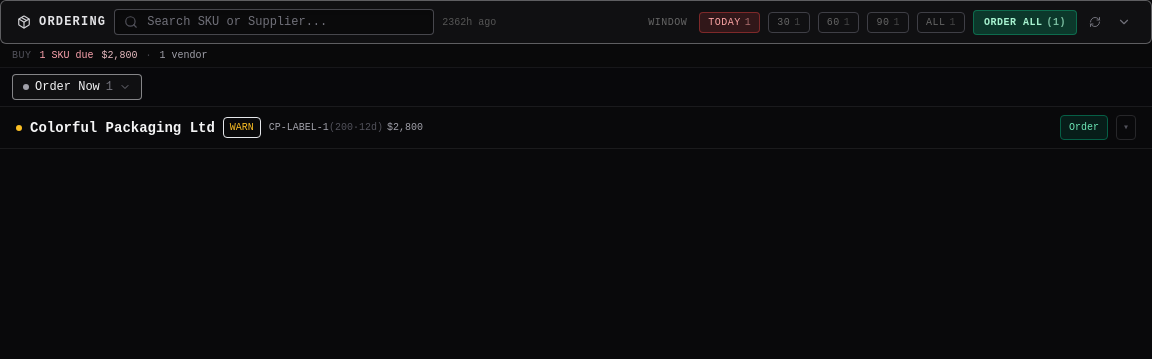
Test: PurchasingPanel - vendor policy badges › renders vendor group when vendor cycle is routine_locked
expect the text "Colorful Packaging Ltd" is shown: met, box [30,118,215,138]
Click the button "▾". click: click(1126, 128)
box: [1116,115,1136,140]
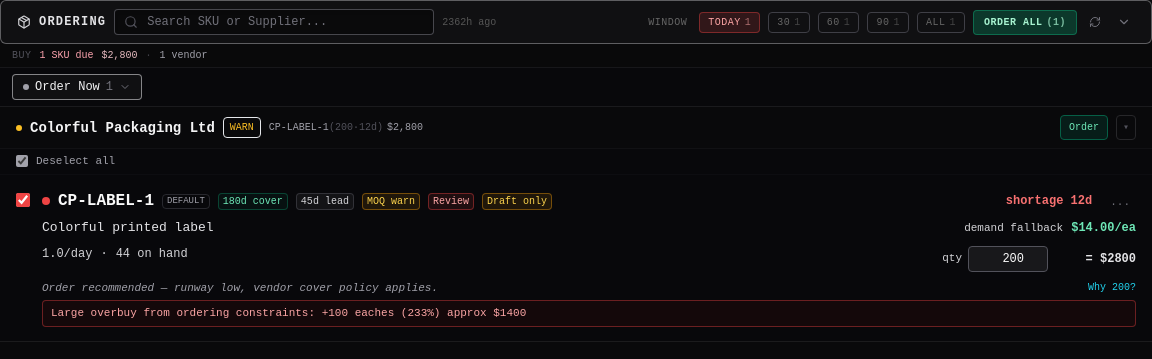
expect the text "Colorful printed label" is shown: met, box [42,220,214,235]
